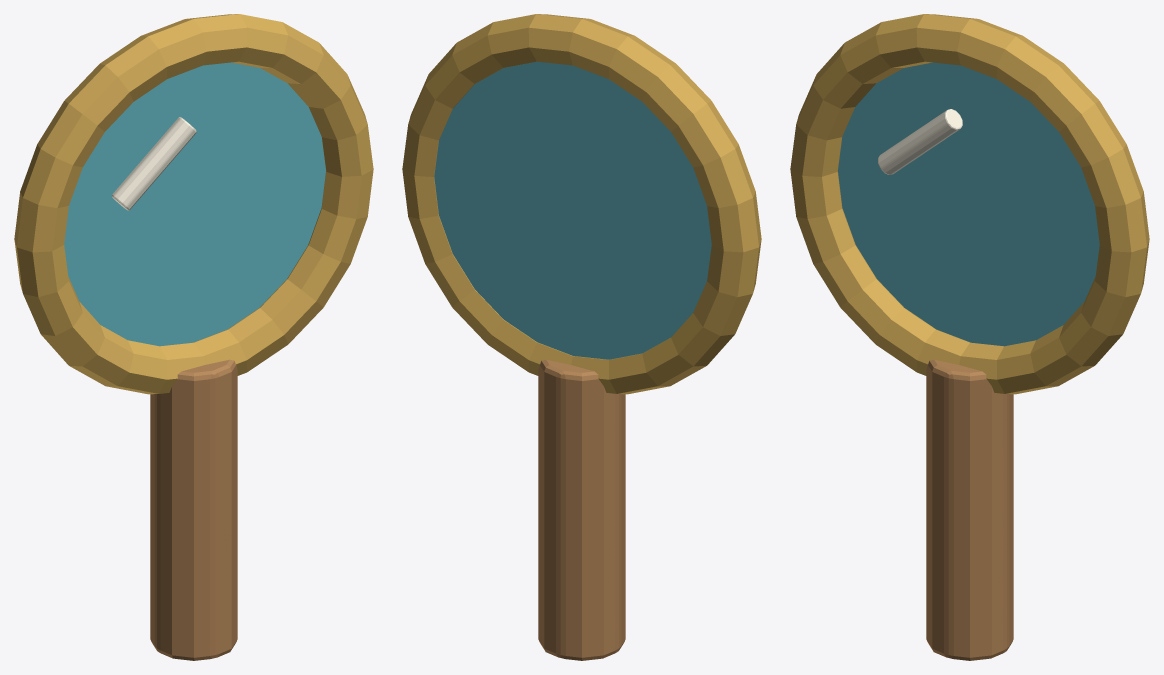
Rendered from P011_magnifying_glass.glb.
The picture shows the model from 3 angles, left to right: view 1: azimuth 30°, elevation 25°; view 2: azimuth 150°, elevation 25°; view 3: azimuth 330°, elevation 25°; orthographic projection.
Visible parts, largest first — view 1: P011_glass_003, P011_rim_002, P011_handle_001, P011_shine_004; view 2: P011_glass_003, P011_rim_002, P011_handle_001; view 3: P011_glass_003, P011_rim_002, P011_handle_001, P011_shine_004.
Part boxes in pixels (bbox=[...]): P011_glass_003: bbox=[64, 62, 325, 346]; P011_rim_002: bbox=[14, 14, 373, 394]; P011_handle_001: bbox=[150, 359, 237, 660]; P011_shine_004: bbox=[112, 117, 196, 210]; P011_glass_003: bbox=[434, 61, 711, 359]; P011_rim_002: bbox=[402, 14, 761, 394]; P011_handle_001: bbox=[538, 359, 625, 660]; P011_glass_003: bbox=[838, 62, 1099, 346]; P011_rim_002: bbox=[790, 14, 1149, 394]; P011_handle_001: bbox=[926, 359, 1013, 660]; P011_shine_004: bbox=[878, 109, 962, 174].
Size of the model in its own units: 0.206 by 0.348 by 0.0431.
